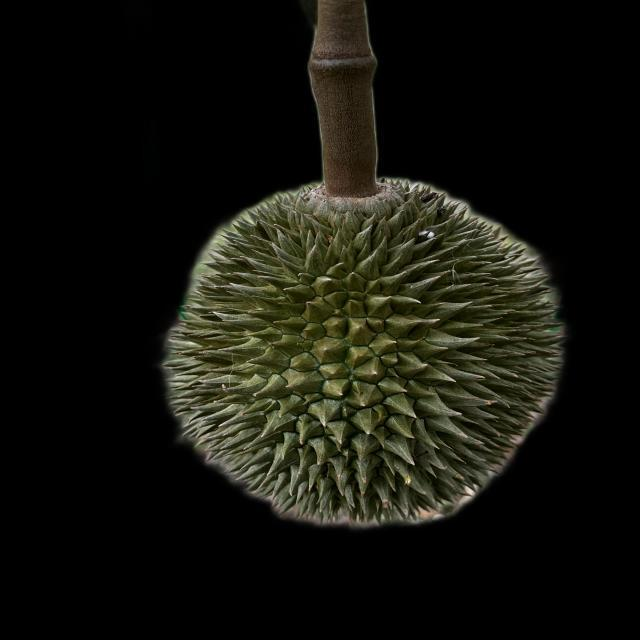UNRIPE: (166, 176, 561, 526)
